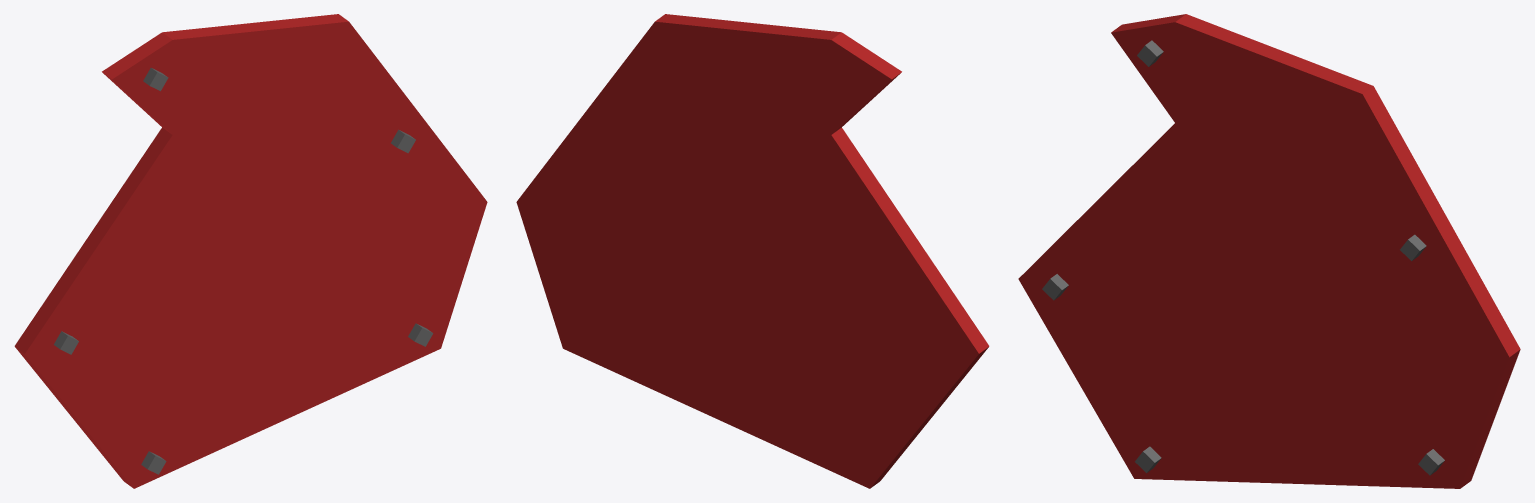
The model's file is Prop_Building_Savage_Metal_Plated_Sheet_Loose_04.FBX.
3 views of the same model, side by side, from view 1: azimuth 30°, elevation 25°; view 2: azimuth 150°, elevation 25°; view 3: azimuth 330°, elevation 25° (orthographic). The views are drawn at different scales.
Visible parts, largest first — view 1: Prop_Building_Savage_Metal_Plated_Sheet_Loose_04; view 2: Prop_Building_Savage_Metal_Plated_Sheet_Loose_04; view 3: Prop_Building_Savage_Metal_Plated_Sheet_Loose_04.
Boxes of the visible parts, x1,y1,x2,y2 form: Prop_Building_Savage_Metal_Plated_Sheet_Loose_04: (14,14,487,488); Prop_Building_Savage_Metal_Plated_Sheet_Loose_04: (516,14,989,488); Prop_Building_Savage_Metal_Plated_Sheet_Loose_04: (1018,14,1520,488).
Bounding box in the file's own units: 2308 × 2096 × 147.
